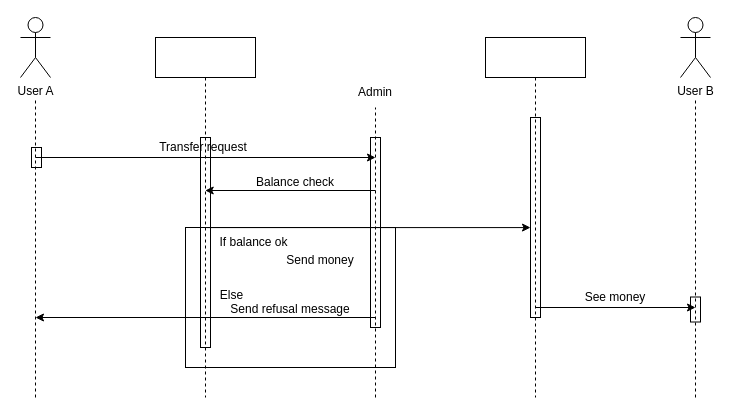
The diagram is 731 pixels wide and 416 high, and some of its shapes have lost their labels. The shapes that lost their labels are listed below. From the top down, each one's box as (x1, y1, x2, y2) in pixels, then its label:
(154, 36, 256, 398): :Account A
(484, 36, 586, 398): :Account B
